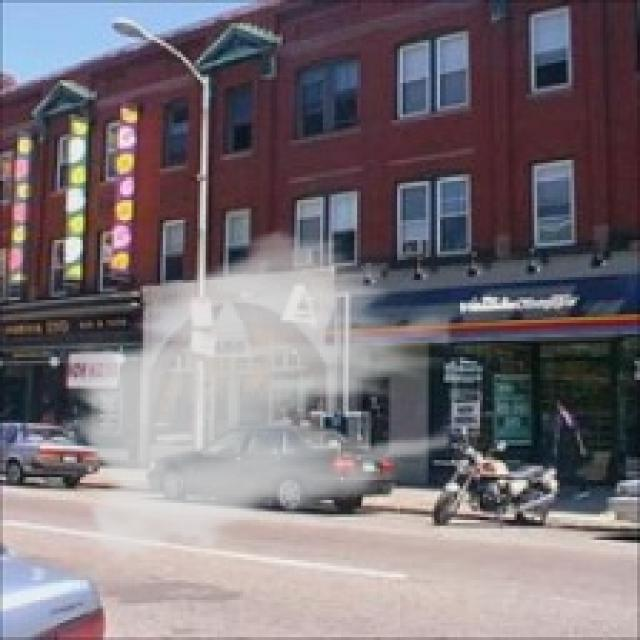Smoke: (57, 220, 452, 574)
